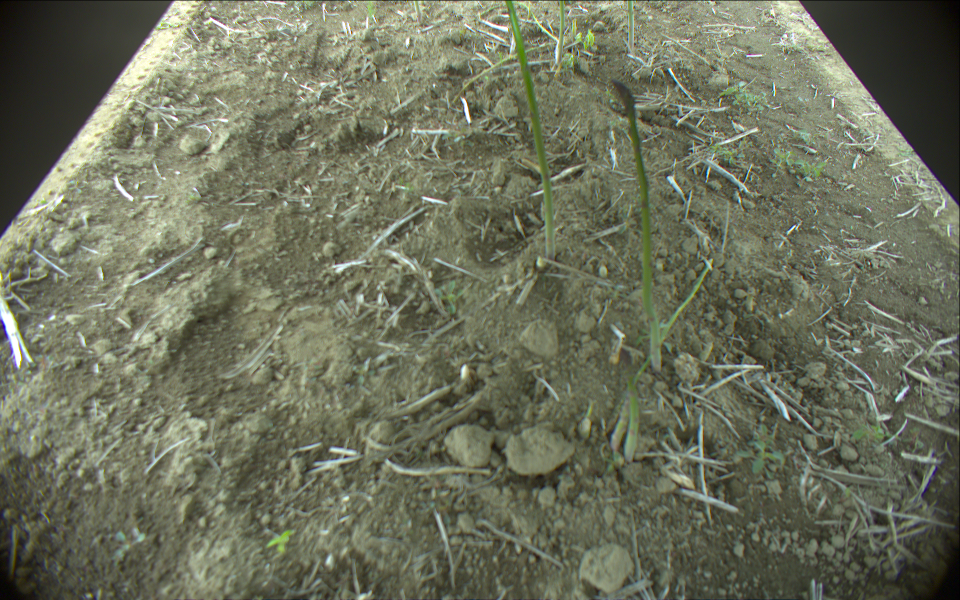aspa: (612, 82, 663, 371), (503, 1, 557, 263), (620, 259, 712, 405), (453, 37, 557, 106), (479, 1, 559, 41), (621, 346, 639, 464), (610, 398, 629, 454), (555, 1, 566, 64), (626, 1, 636, 50), (413, 1, 423, 24)
